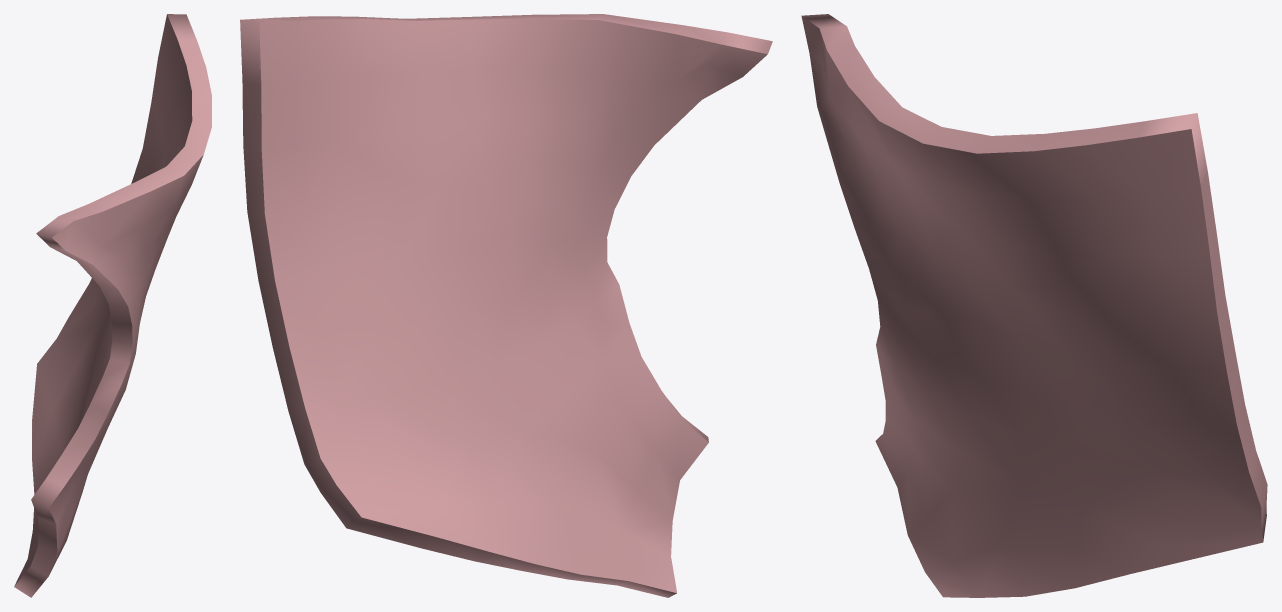
3 renders of one model, left to right at view 1: azimuth 30°, elevation 25°; view 2: azimuth 150°, elevation 25°; view 3: azimuth 270°, elevation 25°, orthographic. The views are drawn at different scales.
Visible parts, largest first — view 1: ZA_12bbac2b8decd31b; view 2: ZA_12bbac2b8decd31b; view 3: ZA_12bbac2b8decd31b.
Part boxes in pixels (box(x1,y1,x2,y2)): ZA_12bbac2b8decd31b: box(14, 14, 211, 597); ZA_12bbac2b8decd31b: box(240, 14, 772, 597); ZA_12bbac2b8decd31b: box(801, 14, 1267, 597).
Bounding box in the file's own units: 0.047 × 0.0735 × 0.0486.
